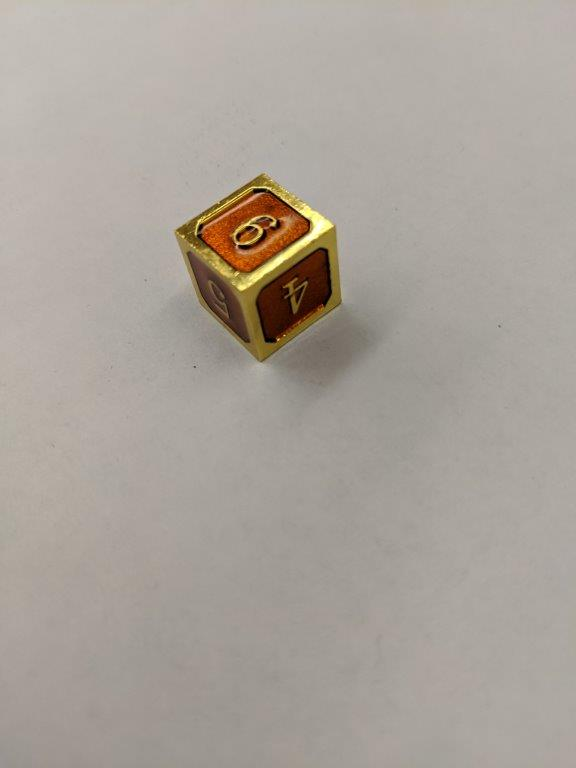d6-6: (174, 171, 343, 363)
